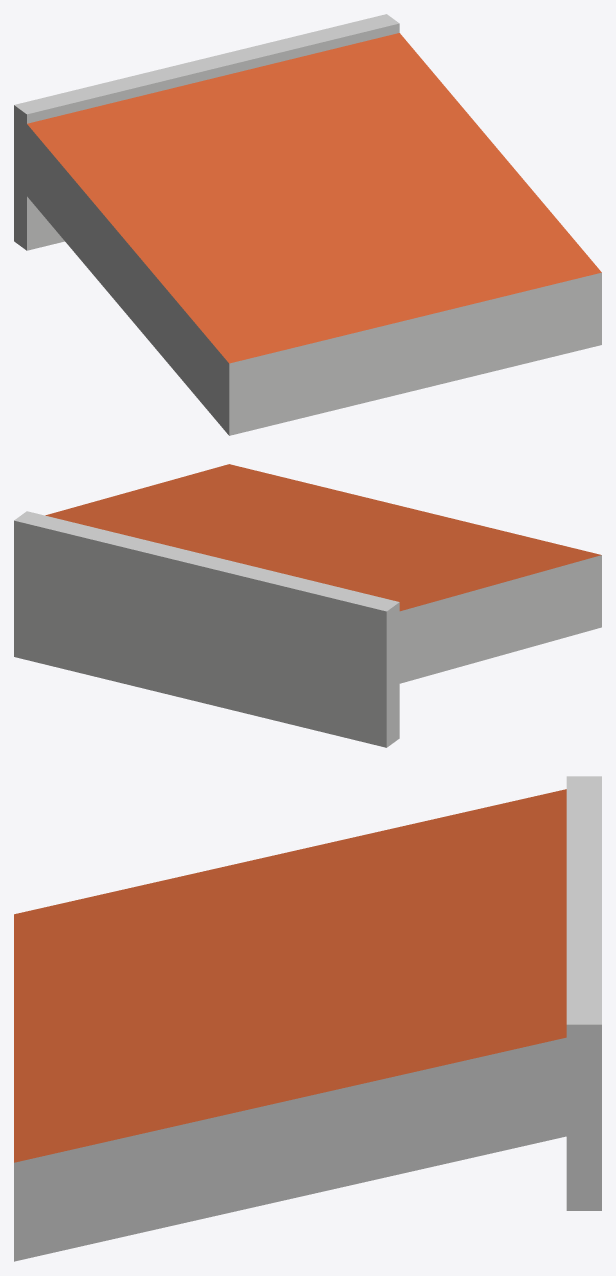
File: telhado_beiral_alto_i25_0_5m.glb
3 views of the same model, one above another, from view 1: azimuth 30°, elevation 25°; view 2: azimuth 150°, elevation 25°; view 3: azimuth 270°, elevation 25° (orthographic). The views are drawn at different scales.
Visible parts, largest first — view 1: telhado_beiral_alto_i25_0_5m; view 2: telhado_beiral_alto_i25_0_5m; view 3: telhado_beiral_alto_i25_0_5m.
Boxes of the visible parts, <box> form: telhado_beiral_alto_i25_0_5m: <box>14,14,601,435</box>; telhado_beiral_alto_i25_0_5m: <box>14,464,601,747</box>; telhado_beiral_alto_i25_0_5m: <box>14,776,601,1261</box>.
Bounding box in the file's own units: 0.5 × 0.2223 × 0.5.
